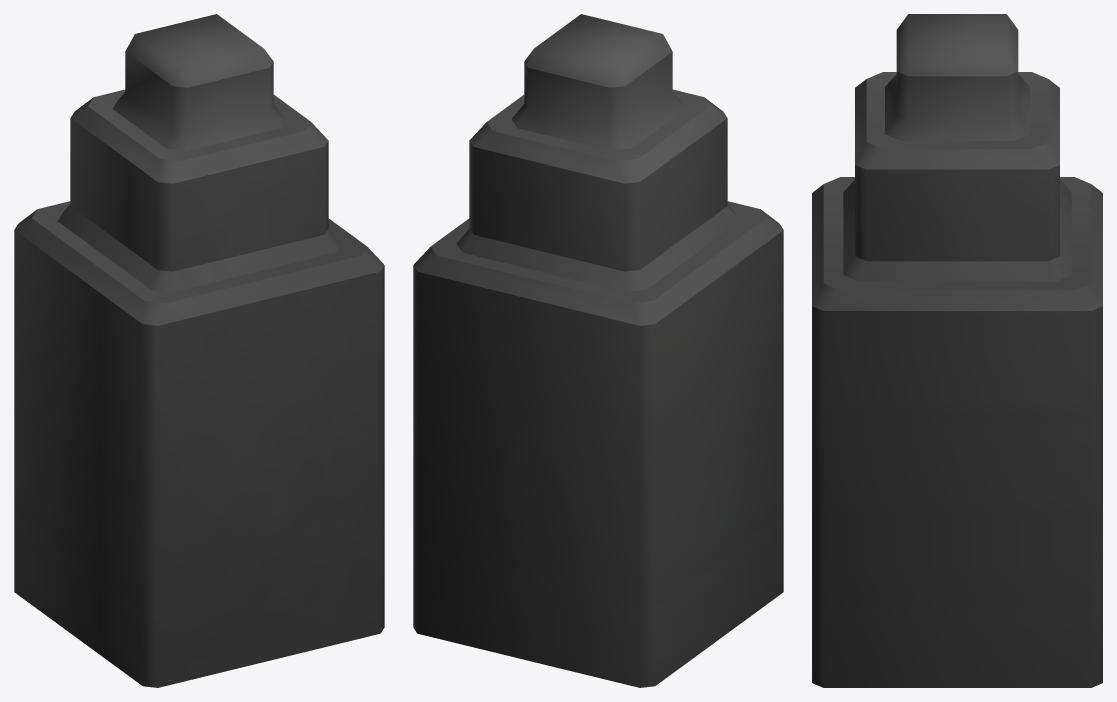
The model's file is Addon_1_1.obj.
3 views of the same model, side by side, from view 1: azimuth 30°, elevation 25°; view 2: azimuth 150°, elevation 25°; view 3: azimuth 270°, elevation 25° (orthographic). The views are drawn at different scales.
Parts seen in each view (by area): view 1: Addon_1_1; view 2: Addon_1_1; view 3: Addon_1_1.
Boxes of the visible parts, left/top/right/bottom form: Addon_1_1: left=14, top=14, right=384, bottom=687; Addon_1_1: left=413, top=14, right=783, bottom=687; Addon_1_1: left=812, top=14, right=1102, bottom=687.
Bounding box in the file's own units: 0.1315 × 0.2952 × 0.1315.
